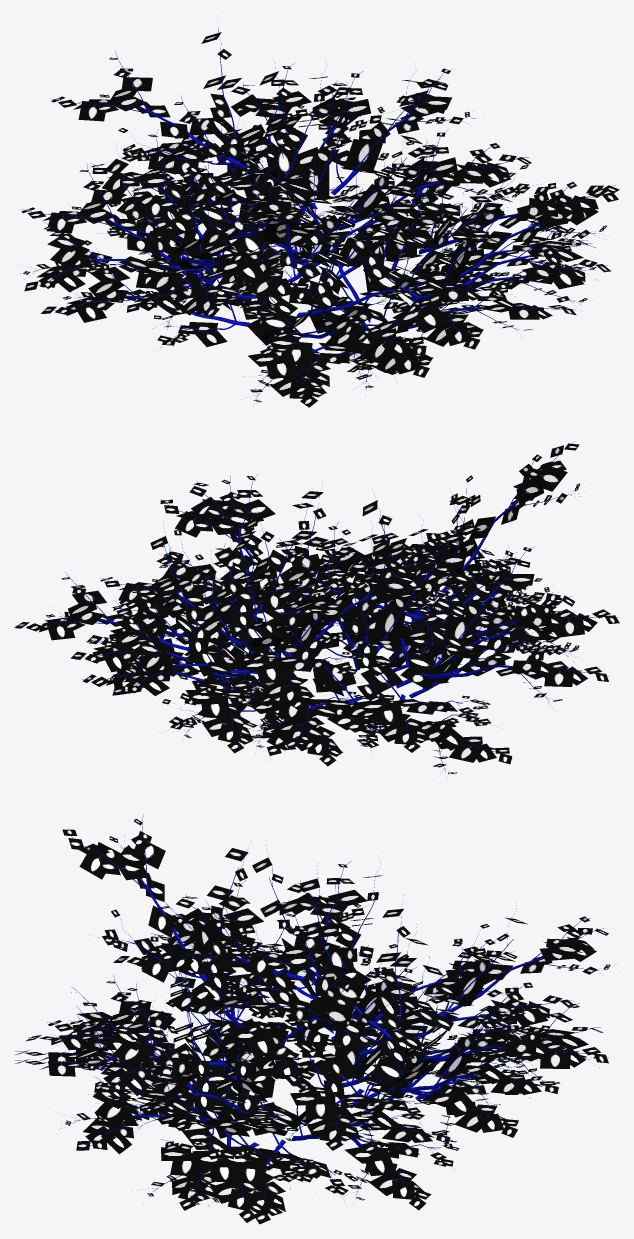
File: feuillage_3.fbx
The picture shows the model from 3 angles, top to bottom: view 1: azimuth 30°, elevation 25°; view 2: azimuth 150°, elevation 25°; view 3: azimuth 270°, elevation 25°; orthographic projection. The views are drawn at different scales.
Visible parts, largest first — view 1: group62; view 2: group62; view 3: group62.
Boxes of the visible parts, x1,y1,x2,y2 form: group62: (20,27,619,407); group62: (14,441,619,773); group62: (15,815,610,1224).
Size of the model in its own units: 1567 by 674 by 1489.
